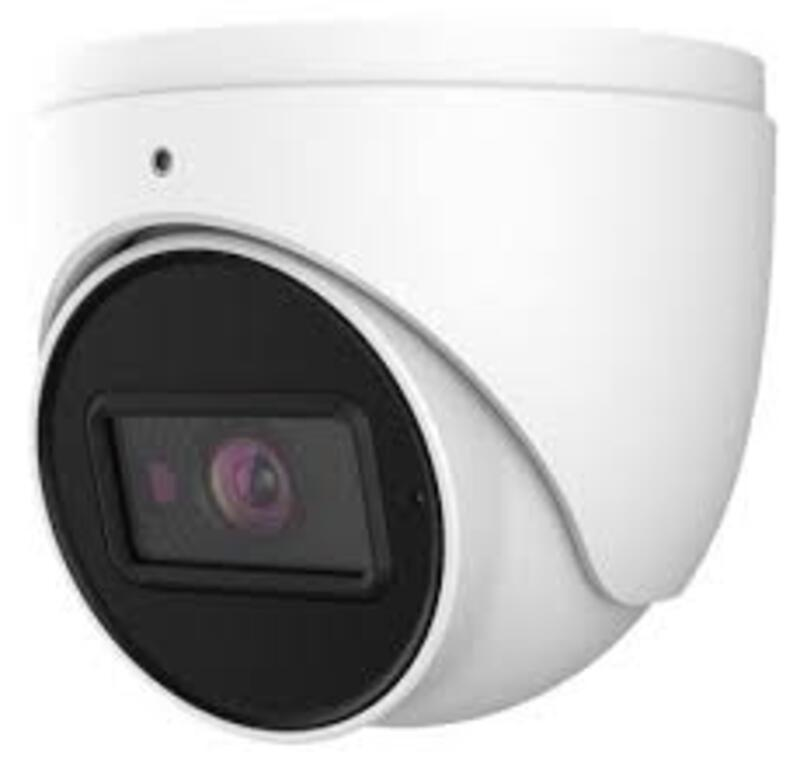turret: (12, 23, 790, 751)
